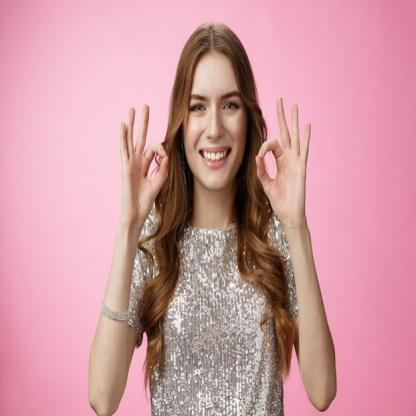ok: (254, 93, 314, 227), (117, 100, 172, 226)
